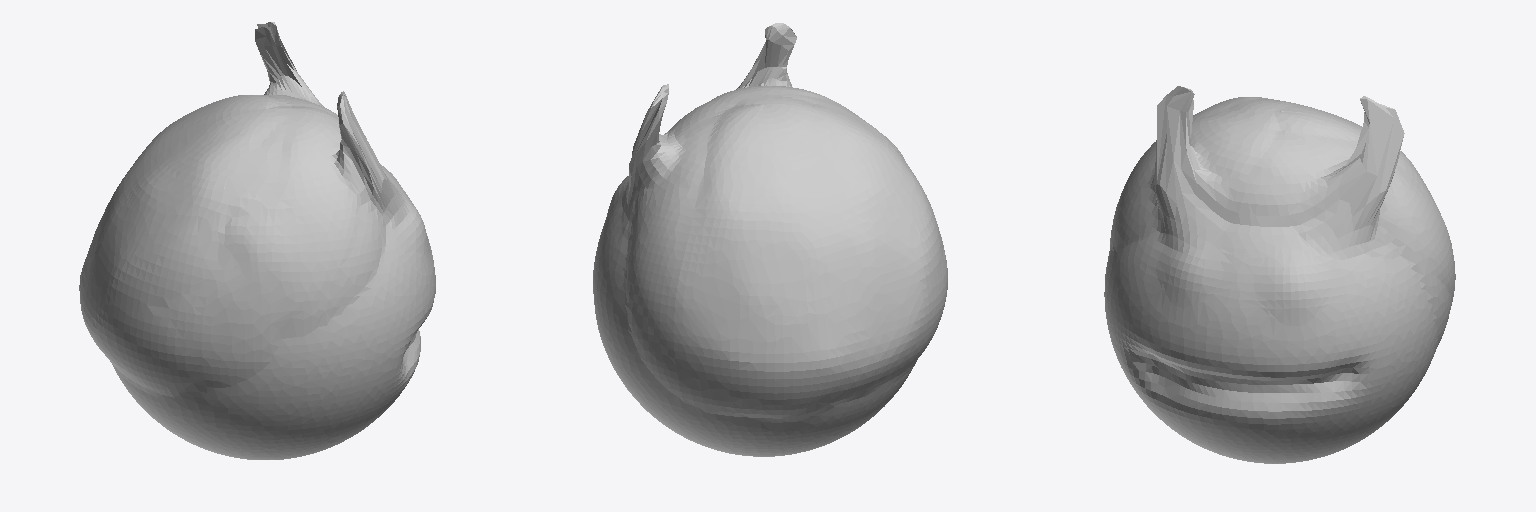
File: devyrocksrtxon.obj
3 renders of one model, left to right at view 1: azimuth 30°, elevation 25°; view 2: azimuth 150°, elevation 25°; view 3: azimuth 270°, elevation 25°, orthographic.
Visible parts, largest first — view 1: Sphere; view 2: Sphere; view 3: Sphere.
Part boxes in pixels (x1,y1,x2,y2): Sphere: (79,22,435,459); Sphere: (593,23,947,456); Sphere: (1104,86,1455,463).
Bounding box in the file's own units: 2.09 × 2.44 × 2.06.